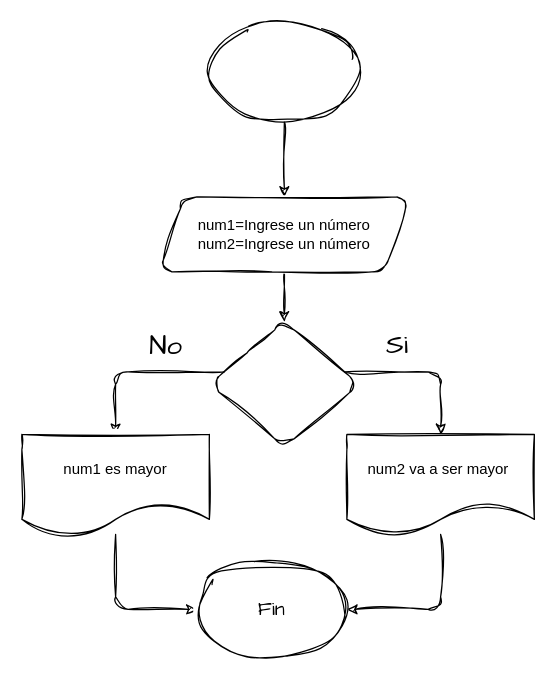
Some shapes in this 556 by 681 pixel diagram are drawn without their labels. The shapes that lost their labels are listed below. From the top down, each one's centre as x and y in pixels, then its label:
At (283,71): "Inicio".
At (283,384): "Si num1 <num2".
